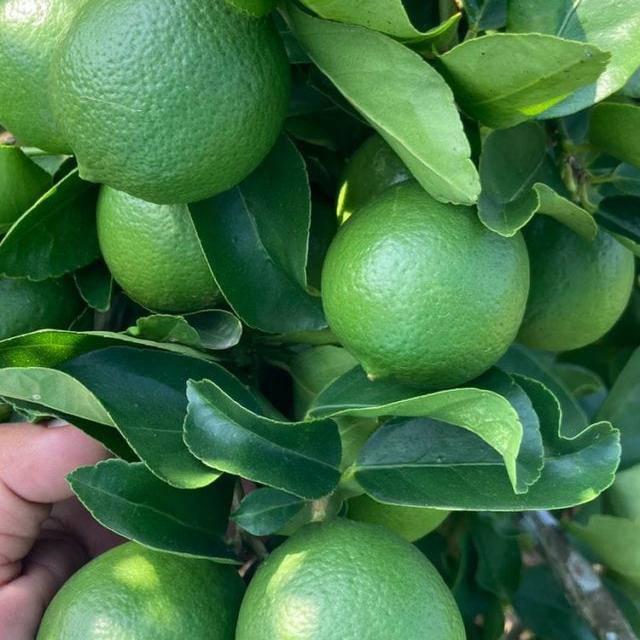lime: (65, 0, 293, 209), (322, 183, 532, 396), (237, 519, 469, 640), (34, 545, 249, 640), (519, 194, 640, 357), (93, 188, 220, 320)
